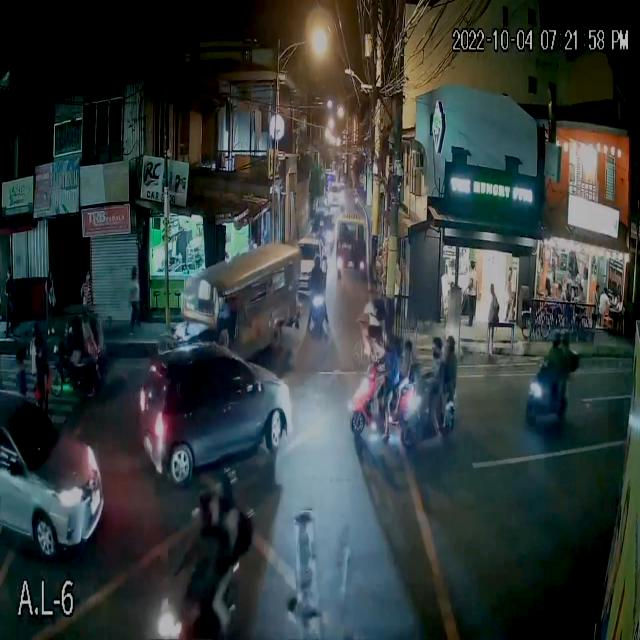Full-Faced: (193, 491, 219, 537), (214, 464, 239, 499), (444, 328, 458, 363), (549, 325, 562, 351), (558, 328, 570, 351)
Not-Wearing-Helmet: (428, 334, 444, 361), (384, 329, 397, 350), (403, 336, 414, 357)
